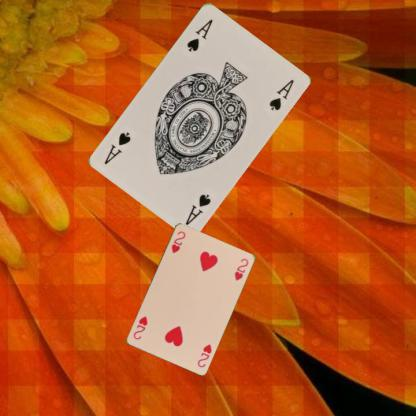2h: (194, 341, 212, 369), (168, 228, 186, 254)
As: (184, 16, 214, 53), (183, 191, 212, 226)
